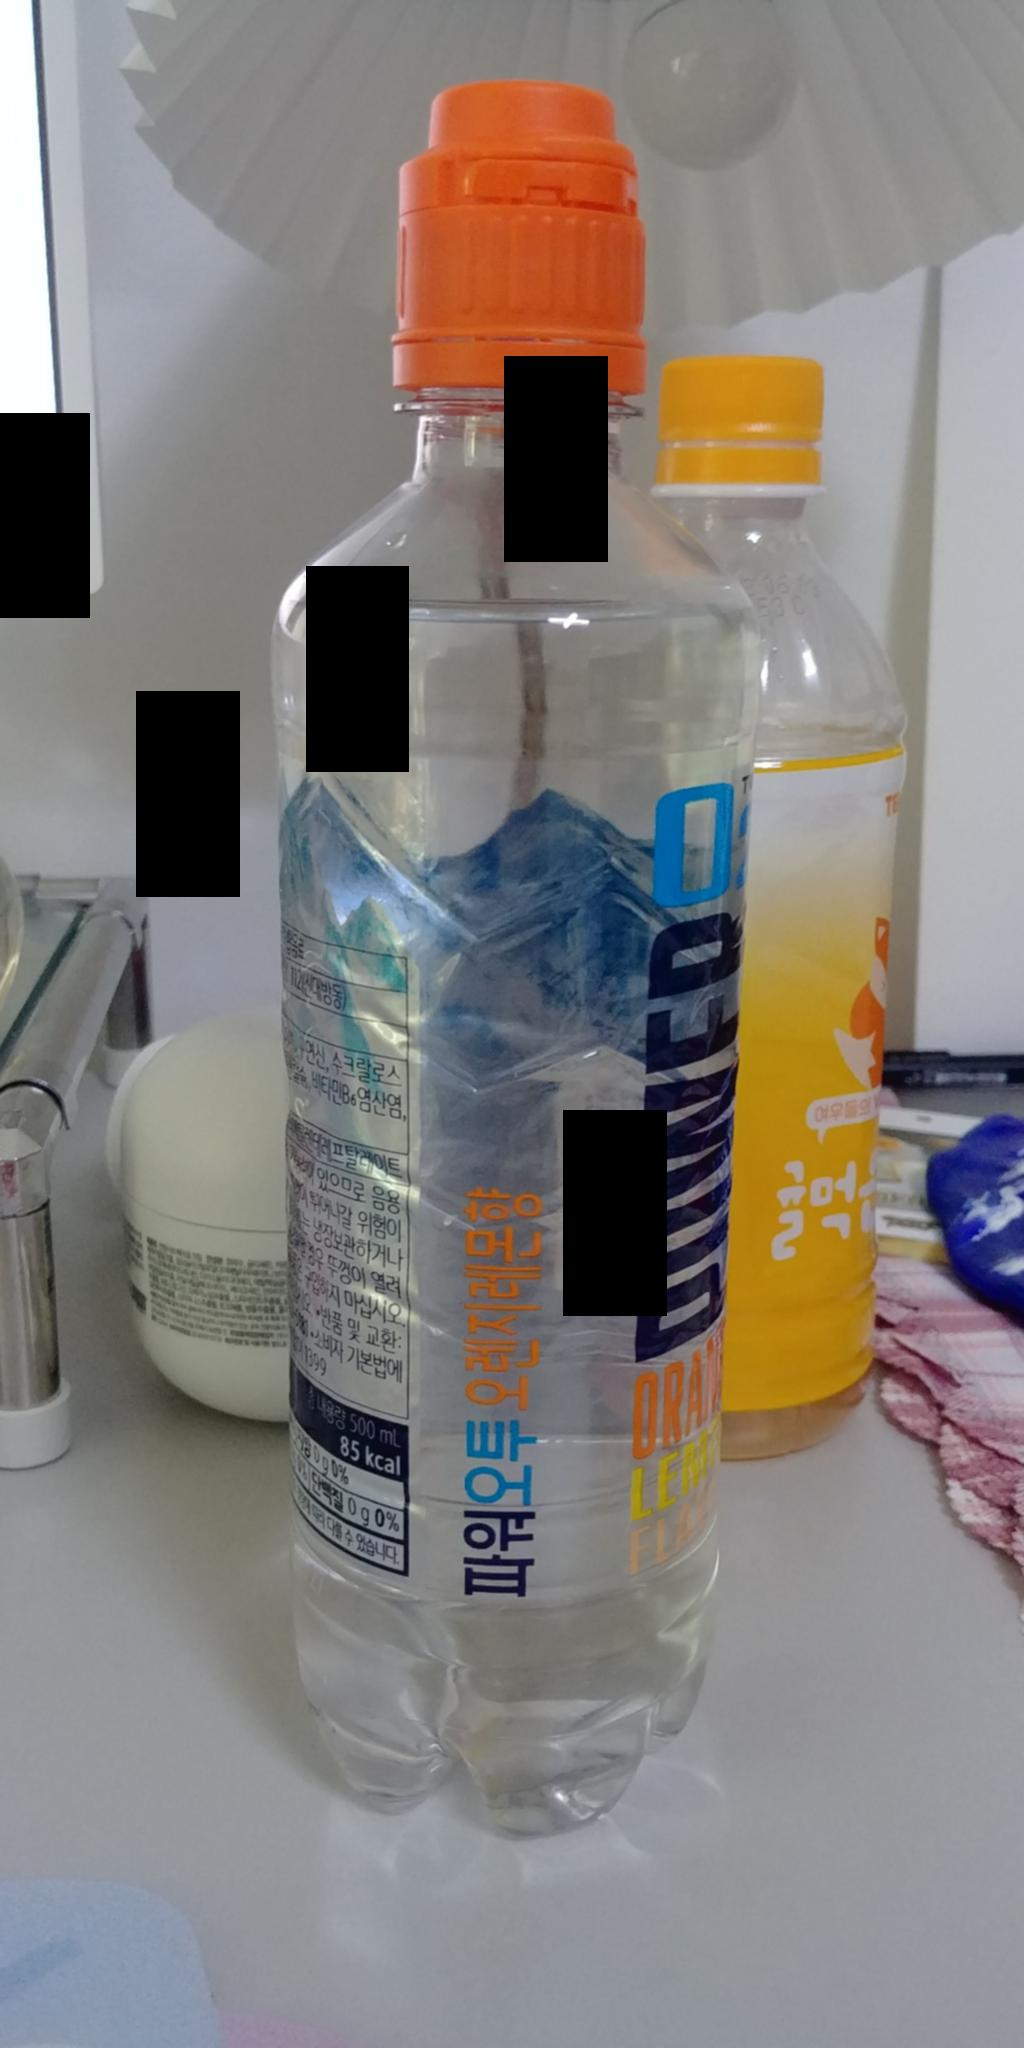powerO2_orange: (234, 84, 726, 1874)
